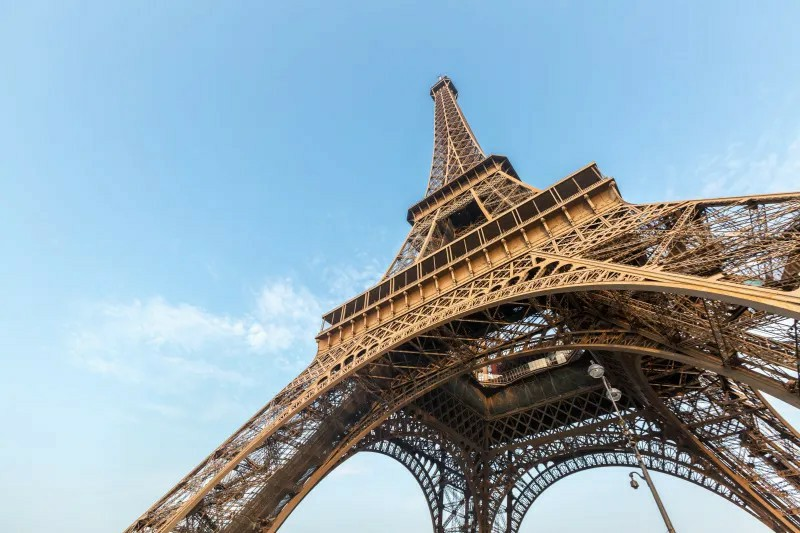Eiffel: (121, 74, 800, 533)
